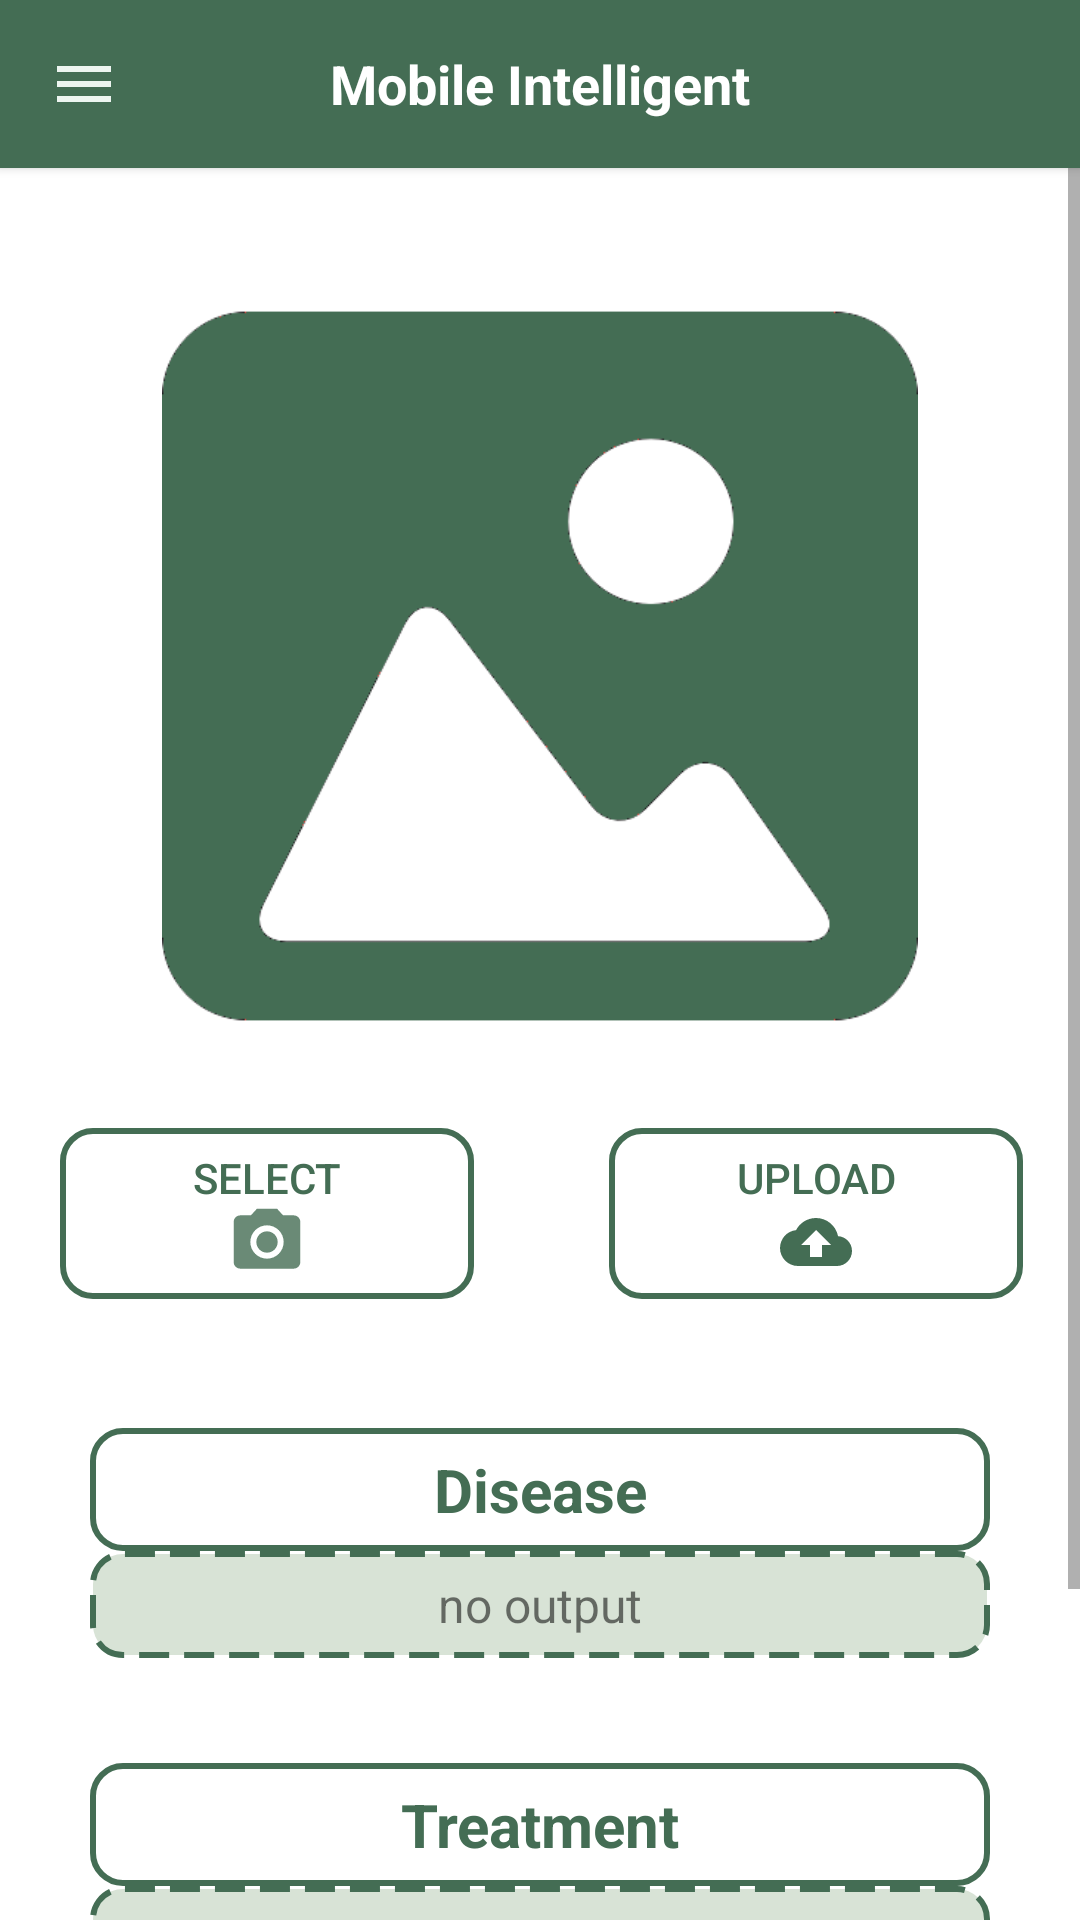

Icon click points for this 1080px×1920px phone screenshot, format (x,y):
menu: (84,84)
